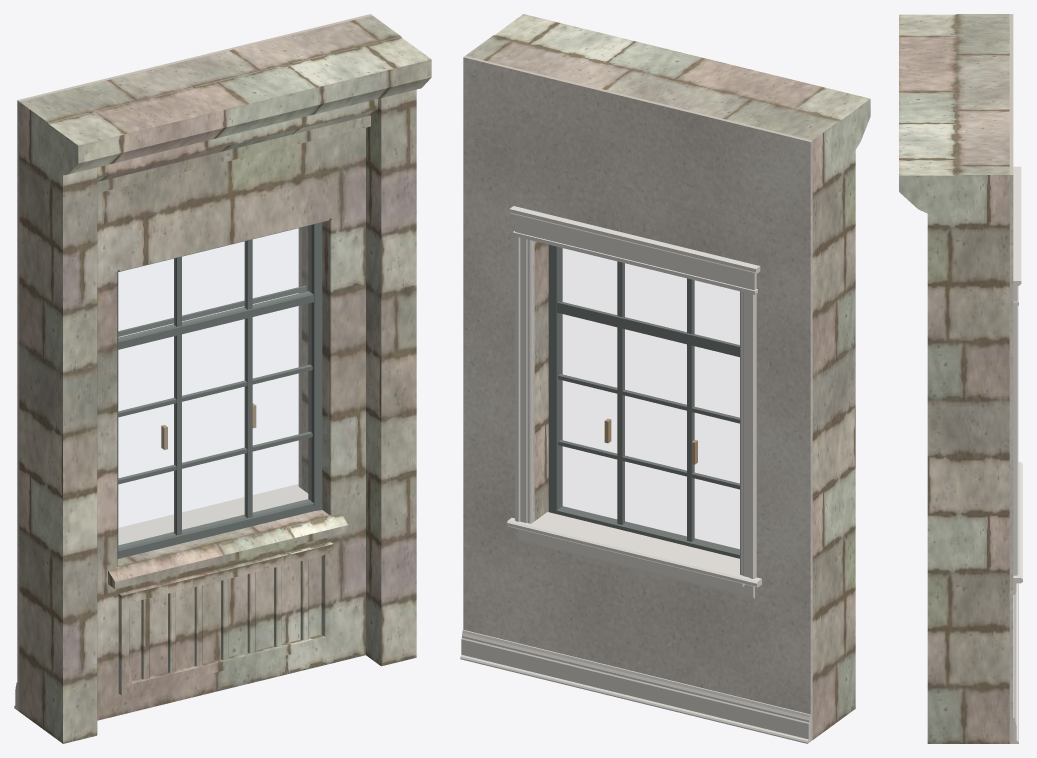
Rendered from c_win.glb.
3 renders of one model, left to right at view 1: azimuth 30°, elevation 25°; view 2: azimuth 150°, elevation 25°; view 3: azimuth 270°, elevation 25°, orthographic. The views are drawn at different scales.
Parts seen in each view (by area): view 1: c_win_stone, folha_glass, folha_frame, molduras, c_win_plaster; view 2: c_win_plaster, c_win_stone, folha_glass, molduras, folha_frame, c_win_frame, c_win_trim; view 3: c_win_stone, molduras, c_win_plaster.
Boxes of the visible parts, x1=… form: c_win_stone: x1=19, y1=15, x2=431, y2=743; folha_glass: x1=119, y1=226, x2=310, y2=547; folha_frame: x1=117, y1=222, x2=322, y2=558; molduras: x1=14, y1=228, x2=308, y2=709; c_win_plaster: x1=17, y1=14, x2=372, y2=711; c_win_plaster: x1=463, y1=56, x2=812, y2=741; c_win_stone: x1=465, y1=14, x2=870, y2=739; folha_glass: x1=560, y1=248, x2=739, y2=551; molduras: x1=460, y1=206, x2=810, y2=743; folha_frame: x1=548, y1=245, x2=739, y2=558; c_win_frame: x1=557, y1=301, x2=739, y2=351; c_win_trim: x1=524, y1=530, x2=744, y2=586; c_win_stone: x1=899, y1=14, x2=1009, y2=743; molduras: x1=1013, y1=166, x2=1022, y2=743; c_win_plaster: x1=1009, y1=14, x2=1013, y2=743.
Size of the model in its own units: 2 by 3.3 by 0.65.
7 materials, 2 textured.
